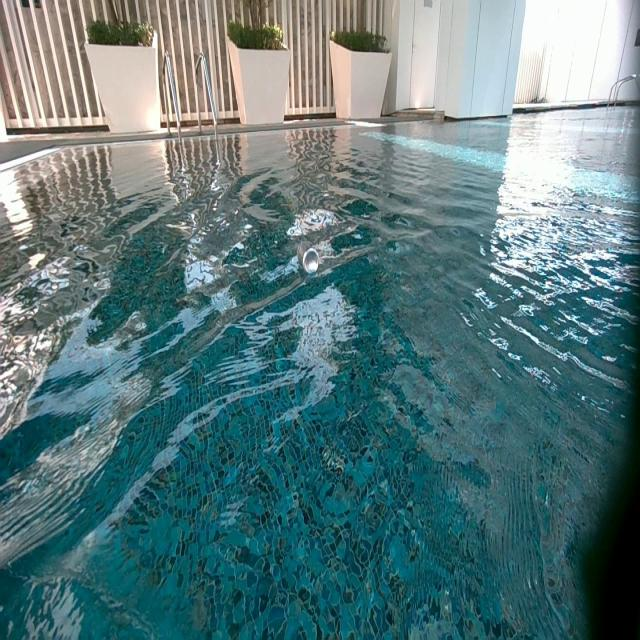Cans: (297, 242, 320, 276)
